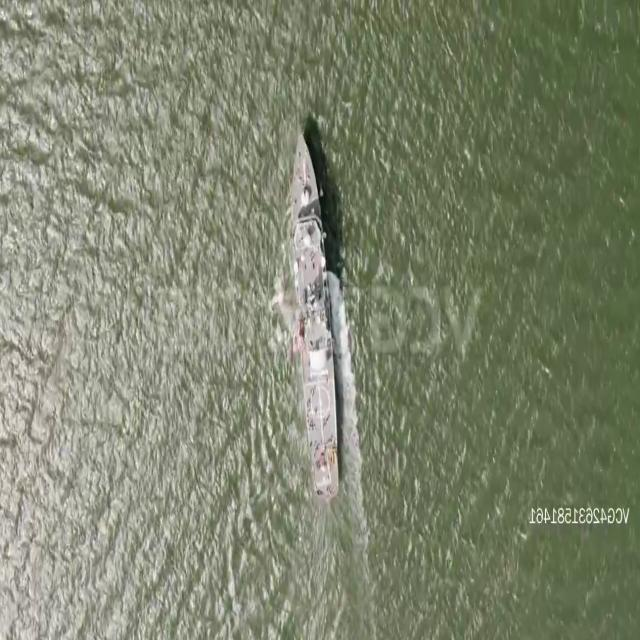navalvessels: (291, 129, 341, 493)
